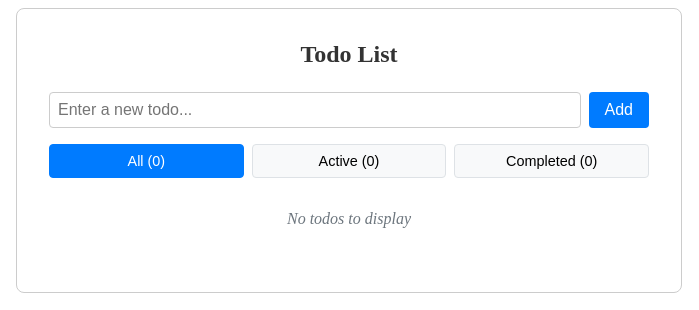
Test: TodoList Component › Adding Todos › should add a todo when input is filled and button clicked
The image size is (699, 310).
Type "Buy groceries" into the field with test id "todo-input". click: [315, 110]
box: 49,92 -> 580,128
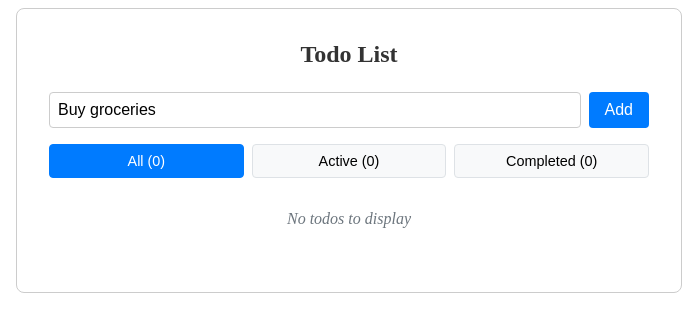
Click the button with test id "todo-add-button". click: [619, 110]
box: 588,92 -> 649,128
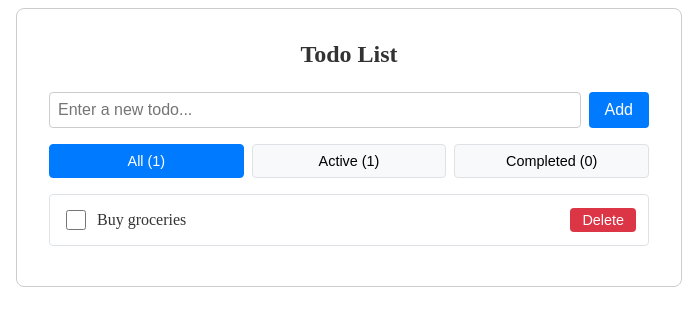
Check: the text with test id "todo-empty-message" is gone
Check: the text "Buy groceries" is shown, box 97,211 -> 186,228
